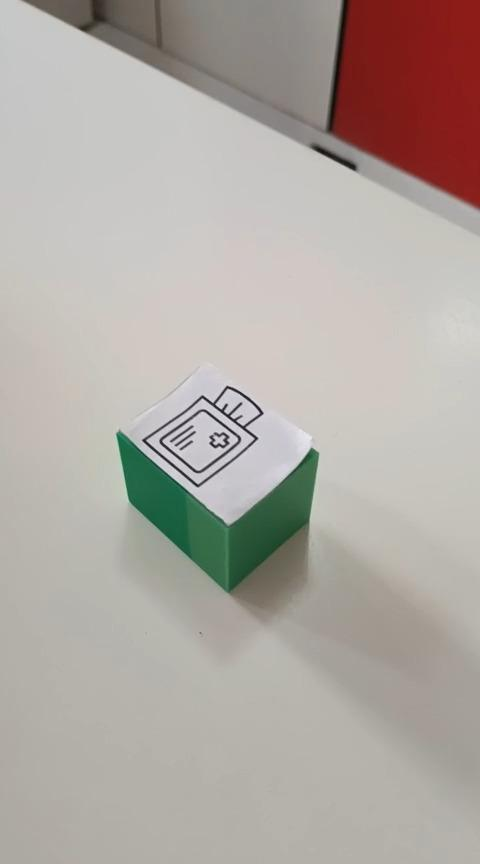Gauze: (115, 361, 319, 593)
